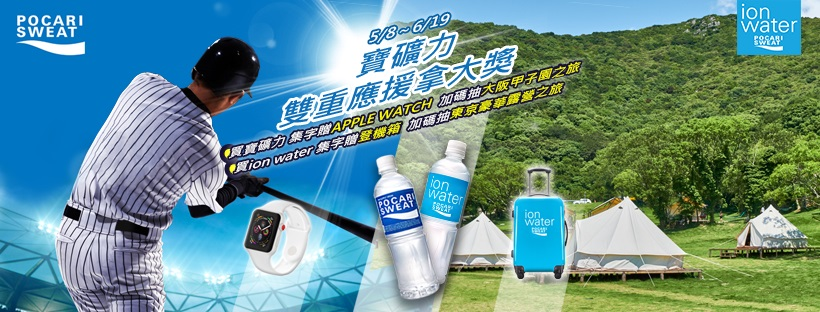POCARI SWEAT: (369, 157, 442, 300)
